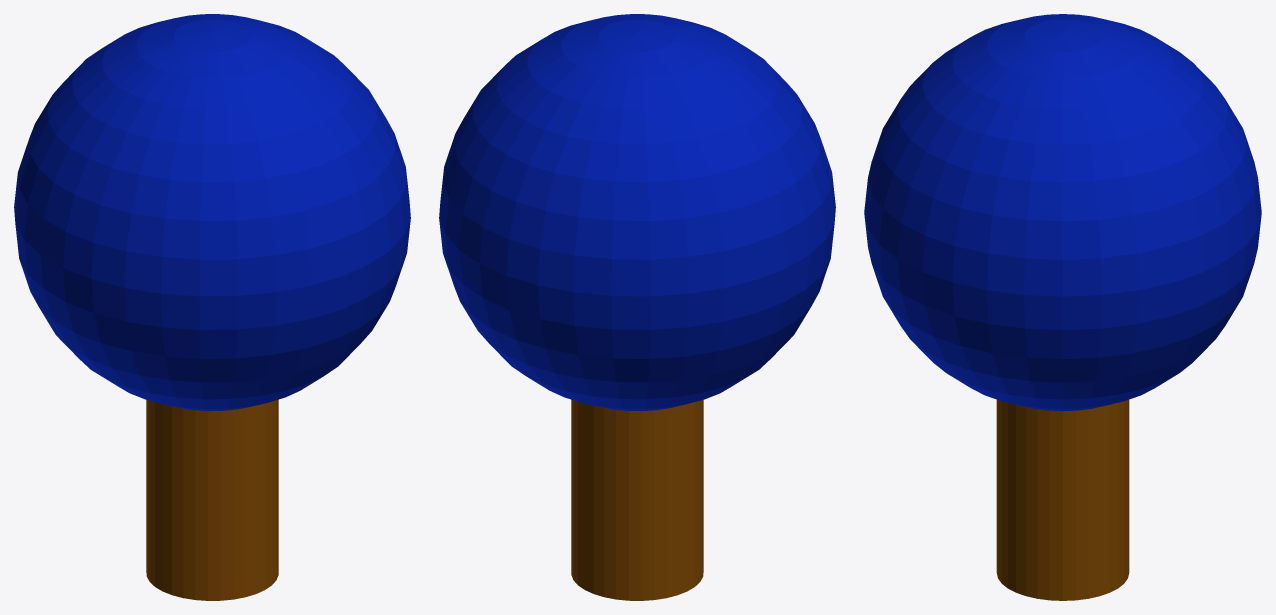
Rendered from map.glb.
3 views of the same model, side by side, from view 1: azimuth 30°, elevation 25°; view 2: azimuth 150°, elevation 25°; view 3: azimuth 270°, elevation 25° (orthographic).
Visible parts, largest first — view 1: Cylinder; view 2: Cylinder; view 3: Cylinder.
Boxes of the visible parts, x1,y1,x2,y2 form: Cylinder: (14, 14, 410, 600); Cylinder: (439, 14, 835, 600); Cylinder: (864, 14, 1261, 600).
Size of what is drawn, in the model's own units: 6 by 9 by 6.
